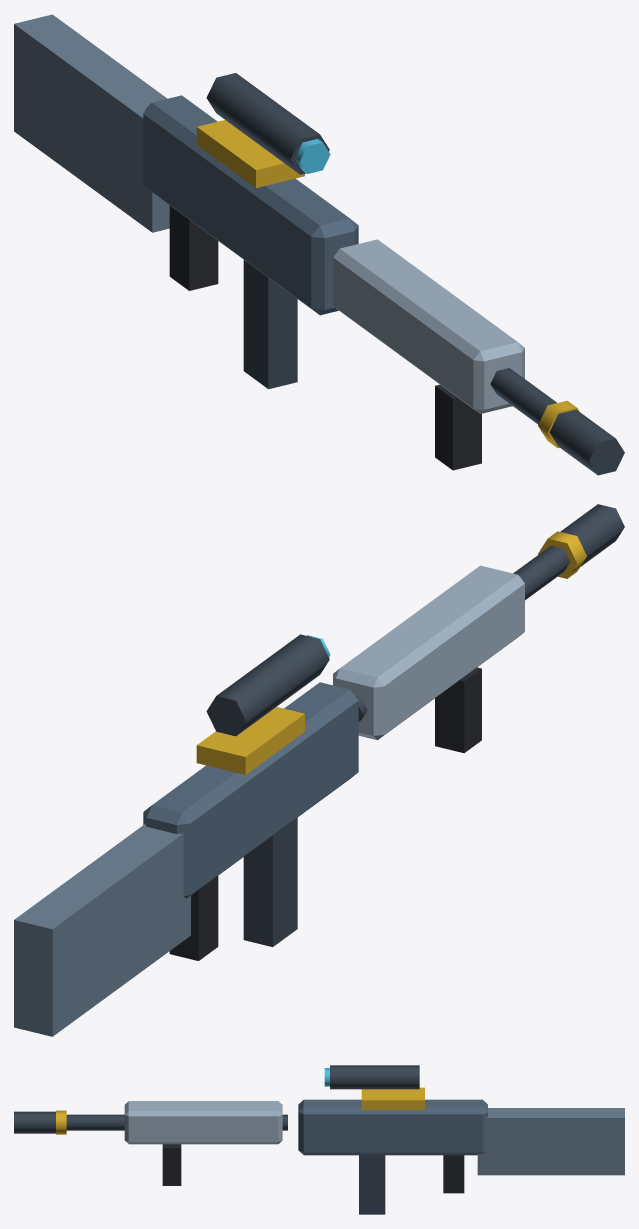
3 renders of one model, top to bottom at view 1: azimuth 30°, elevation 25°; view 2: azimuth 150°, elevation 25°; view 3: azimuth 270°, elevation 25°, orthographic. The views are drawn at different scales.
Parts seen in each view (by area): view 1: dweller_weapon_patrol_rifle; view 2: dweller_weapon_patrol_rifle; view 3: dweller_weapon_patrol_rifle.
Boxes of the visible parts, x1,y1,x2,y2 form: dweller_weapon_patrol_rifle: [14, 14, 624, 475]; dweller_weapon_patrol_rifle: [14, 504, 624, 1036]; dweller_weapon_patrol_rifle: [14, 1065, 624, 1214].
Bounding box in the file's own units: 0.06 × 0.2999 × 1.16.
